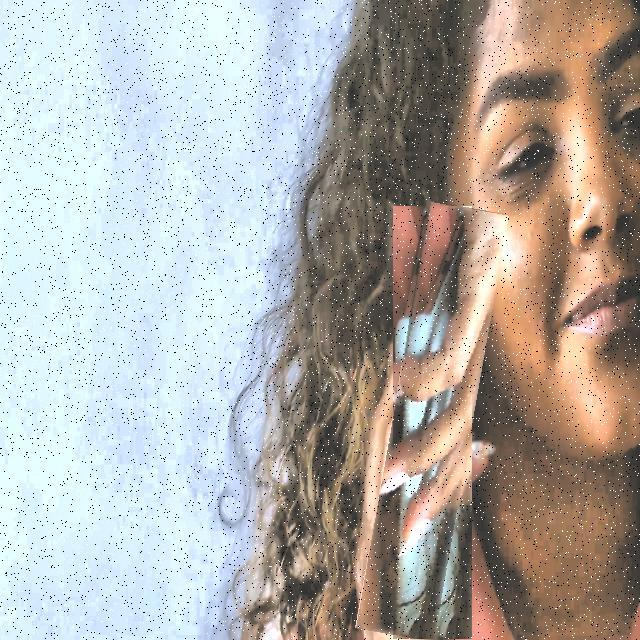Phone: (373, 203, 490, 640)
